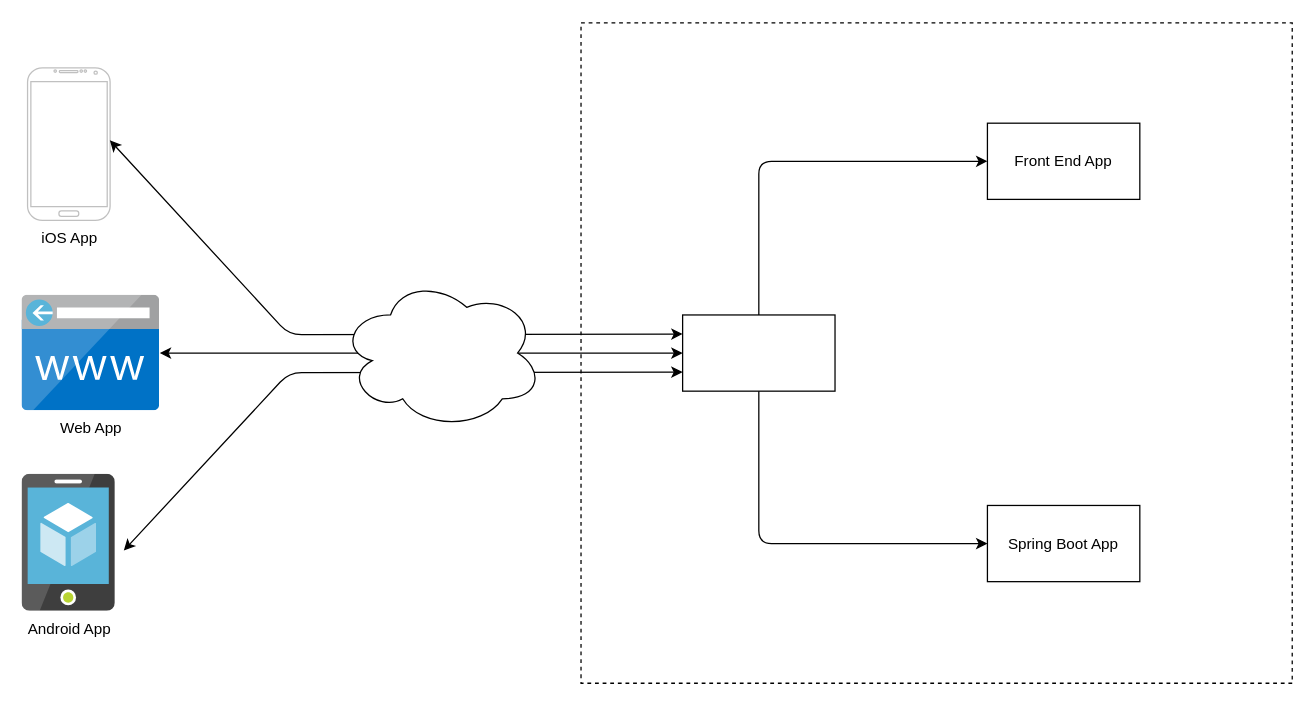
The diagram is 1314 pixels wide and 705 high, and some of its shapes have lost their labels. The centre of each missing label's shape, as x and y in pixels:
"Internet" goes at (x=440, y=352).
"Nginx Server" goes at (x=758, y=352).
